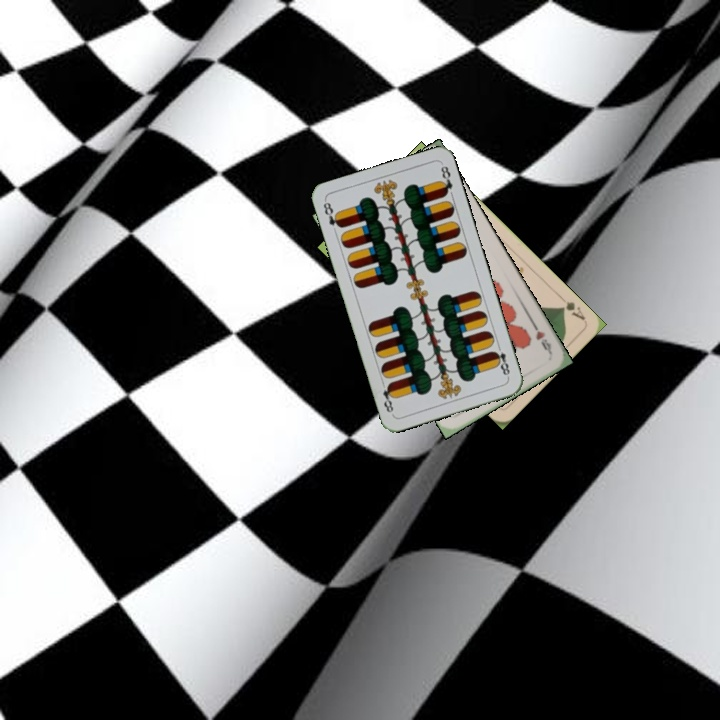E8: (489, 341, 512, 380), (319, 197, 344, 230)
GA: (555, 291, 588, 323)
H9: (529, 319, 555, 357)
